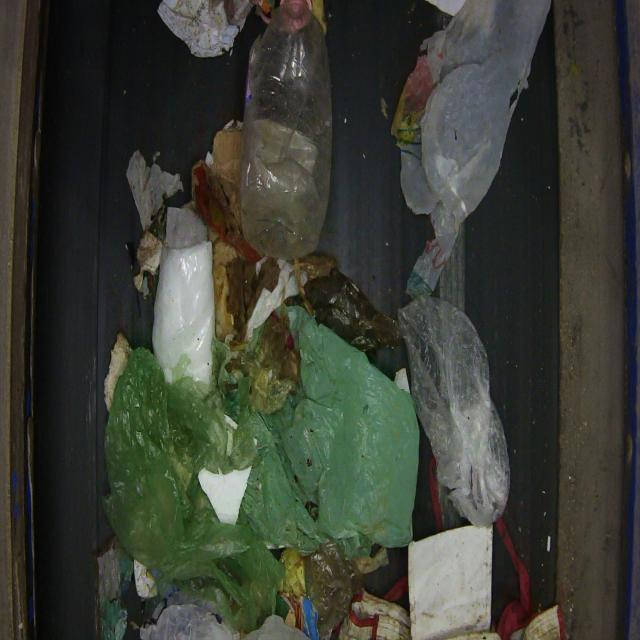bottles: (237, 0, 334, 261)
other-trash: (96, 0, 558, 638)
plastic-waste: (107, 332, 515, 589)
